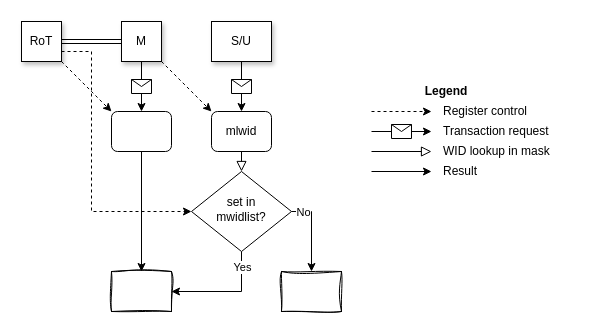
This 589x329 diagram has some shape labels left out. The centre of each missing label's shape, as x and y in pixels:
Accept: point 141,291
mwid: point 141,131
Reject: point 311,291
